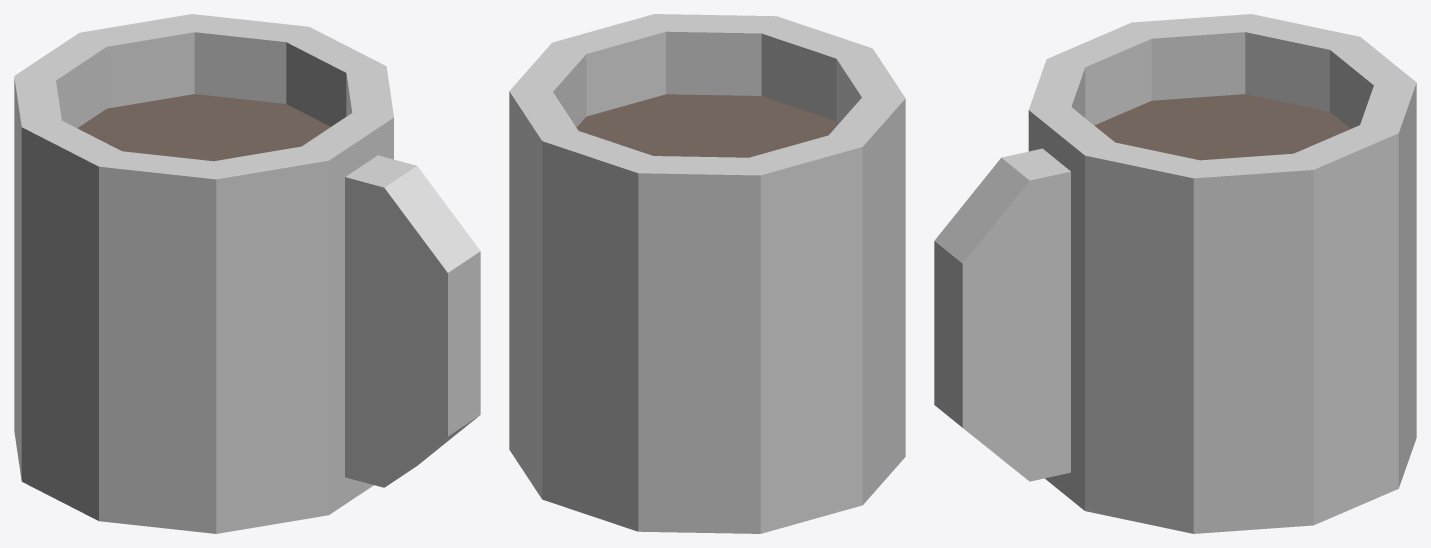
The model's file is mug.gltf.
The picture shows the model from 3 angles, left to right: view 1: azimuth 30°, elevation 25°; view 2: azimuth 150°, elevation 25°; view 3: azimuth 270°, elevation 25°; orthographic projection.
Parts seen in each view (by area): view 1: Coffee Cup; view 2: Coffee Cup; view 3: Coffee Cup.
Boxes of the visible parts, x1,y1,x2,y2 form: Coffee Cup: (14, 14, 480, 533); Coffee Cup: (509, 14, 905, 533); Coffee Cup: (934, 14, 1416, 533).
Bounding box in the file's own units: 0.4946 × 0.4986 × 0.613.
